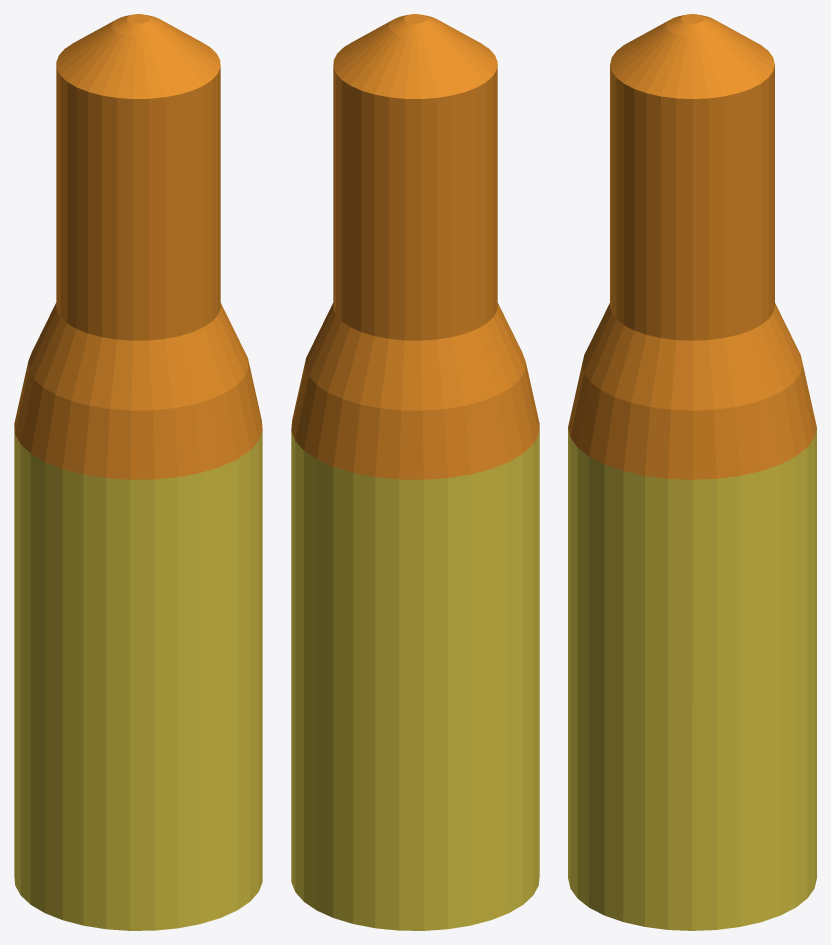
File: bullet.fbx
The picture shows the model from 3 angles, left to right: view 1: azimuth 30°, elevation 25°; view 2: azimuth 150°, elevation 25°; view 3: azimuth 270°, elevation 25°; orthographic projection.
Parts seen in each view (by area): view 1: Cylinder; view 2: Cylinder; view 3: Cylinder.
Boxes of the visible parts, <box> form: Cylinder: <box>14,14,262,930</box>; Cylinder: <box>291,14,539,930</box>; Cylinder: <box>568,14,816,930</box>.
Bounding box in the file's own units: 100 × 381 × 100.
